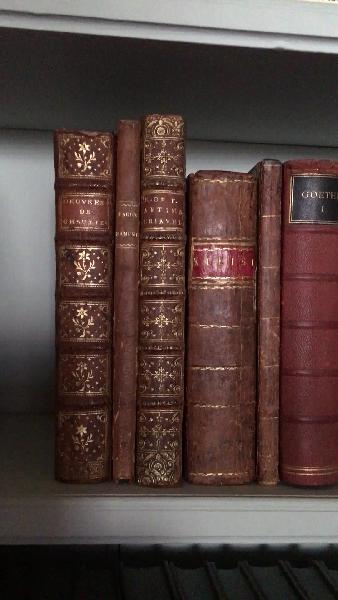Aa6-10: (253, 153, 284, 484)
Aa6-6: (55, 132, 114, 488)
Aa6-7: (114, 111, 140, 485)
Aa6-8: (141, 100, 190, 490)
Aa6-9: (186, 160, 263, 492)
